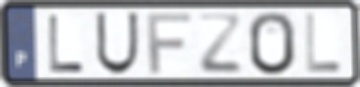F: (144, 11, 193, 76)
L: (304, 11, 344, 75), (46, 13, 85, 75)
O: (247, 10, 298, 78)
U: (94, 11, 140, 77)
Z: (196, 12, 244, 76)
